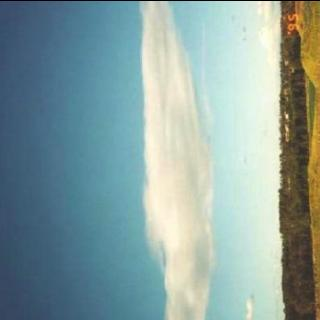Stratocumulus: (0, 0, 285, 320)
